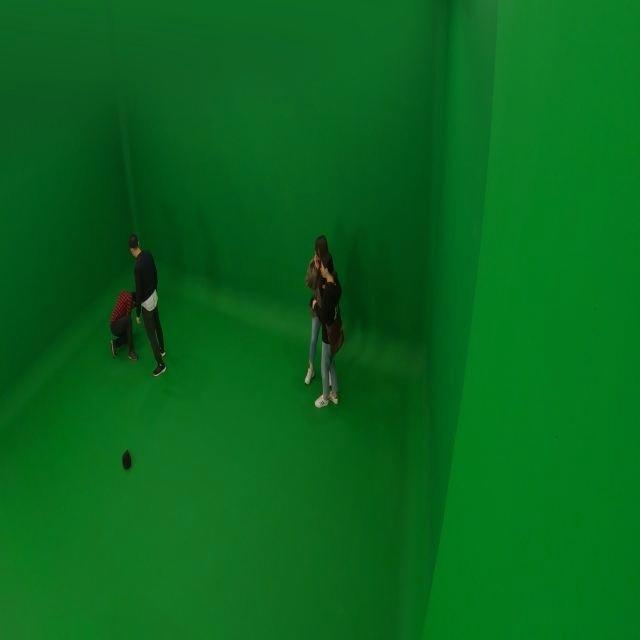fight: (109, 232, 171, 375)
non-fight: (311, 256, 344, 412), (303, 234, 336, 390)
